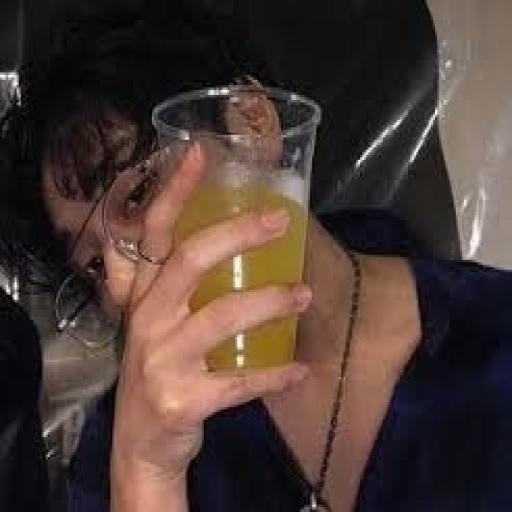drinking: (148, 82, 320, 374)
